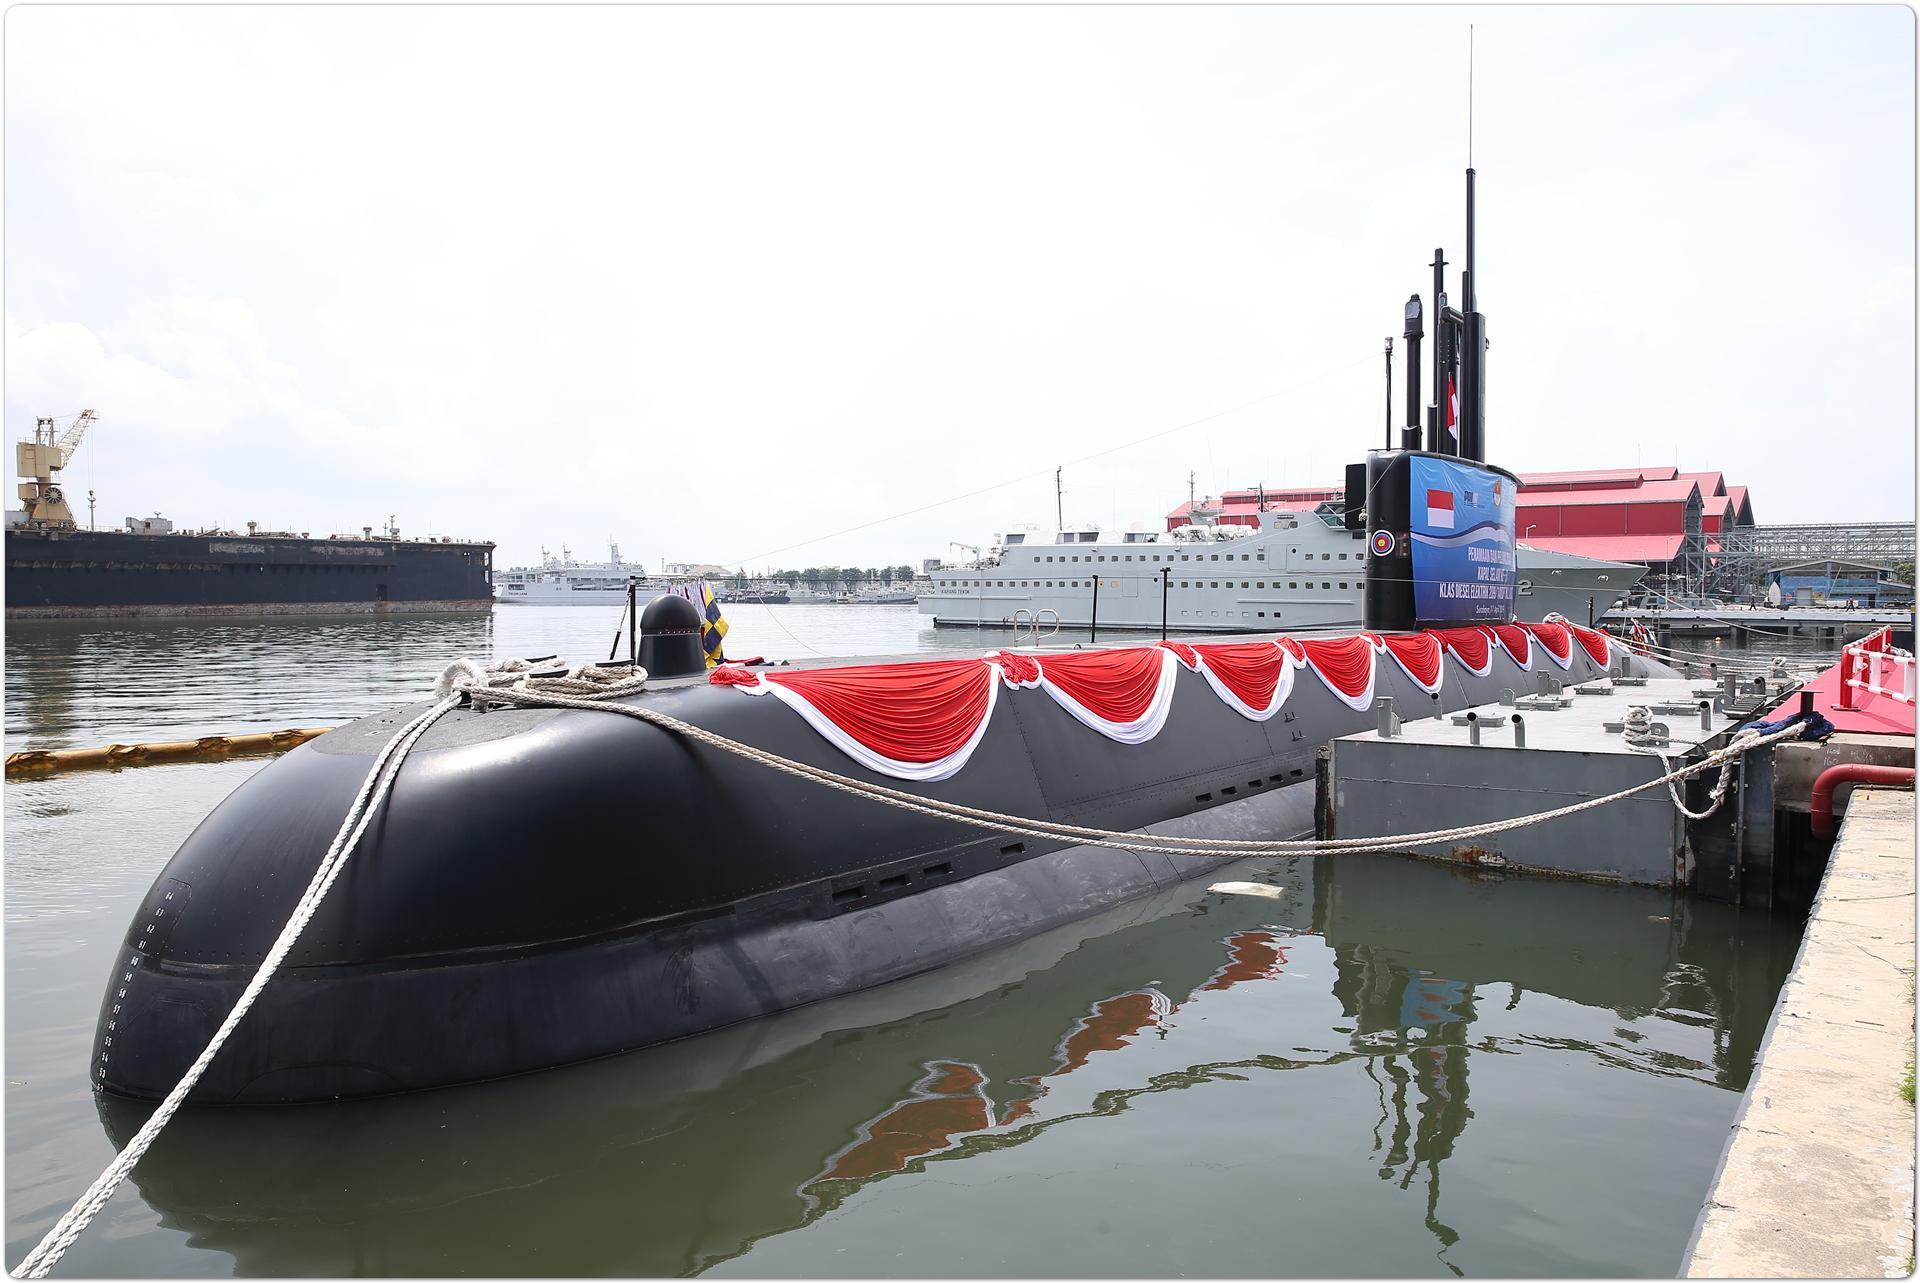Submarine: (0, 60, 1764, 1220)
